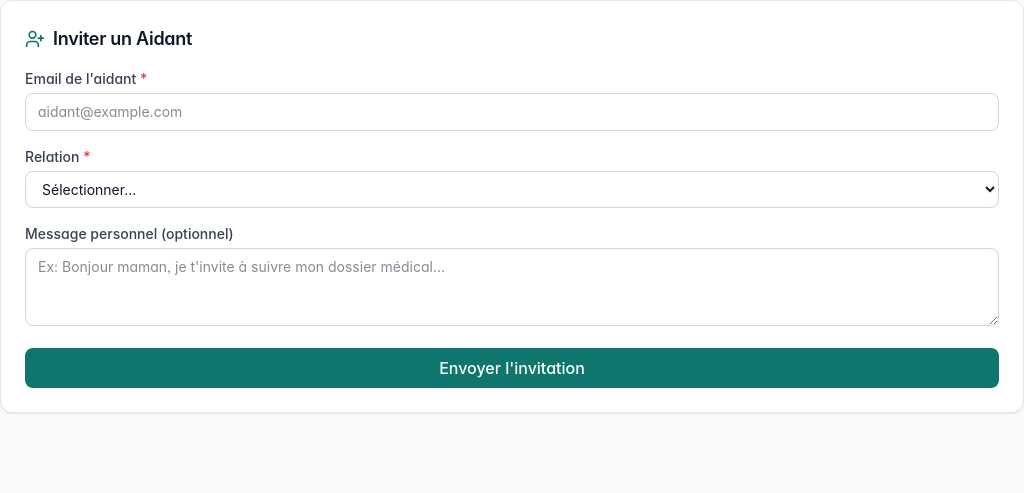
Test: CaregiverInviteForm Component › should show error message on API failure
Type "existing@example.com" into the field with placeholder "aidant@example.com" at (512, 112), box x1=25 y1=93 x2=999 y2=131
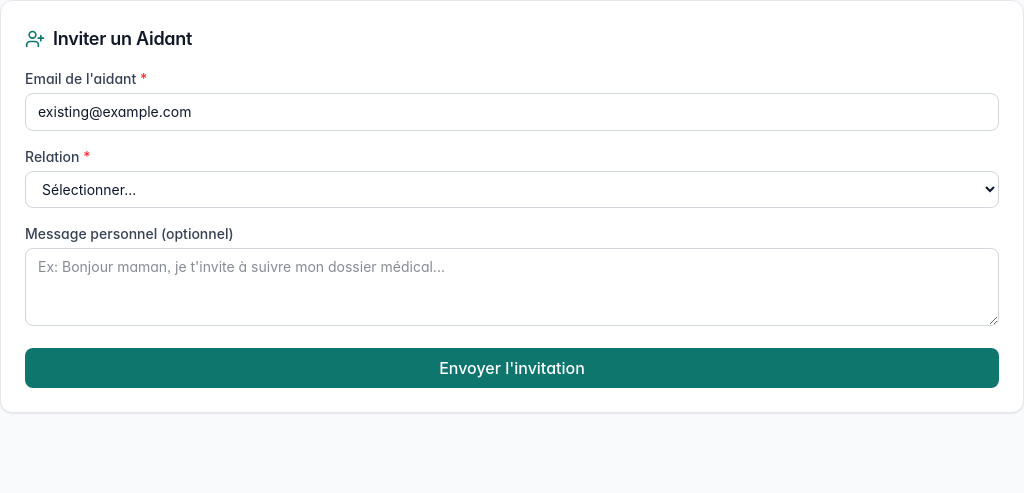
Select "Parent" in the dropdown at (512, 190), box x1=25 y1=171 x2=999 y2=208
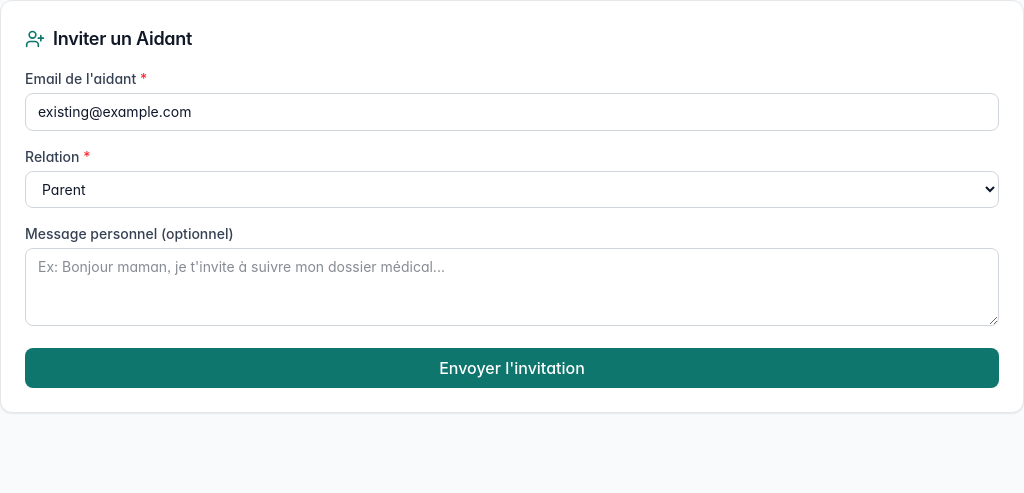
Click the button "Envoyer l'invitation" at (512, 368), box x1=25 y1=348 x2=999 y2=388
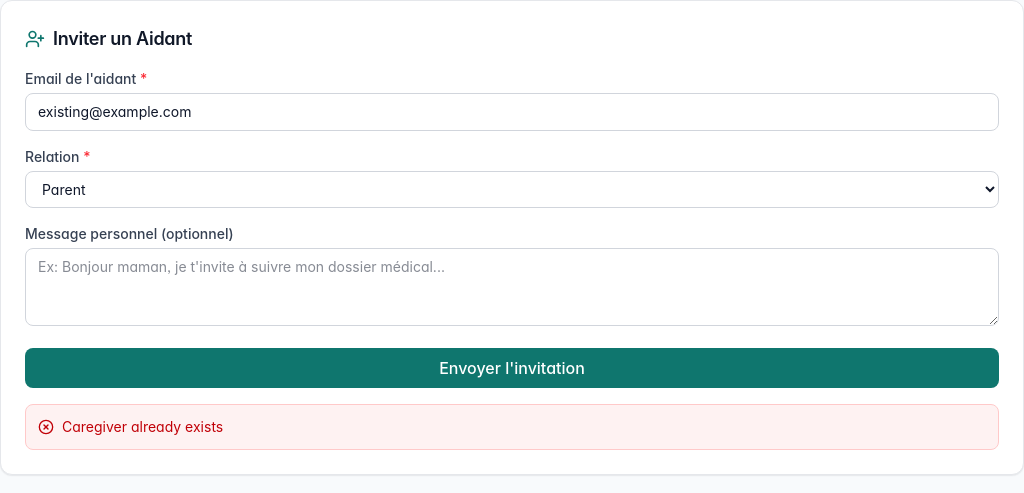
Now the text "Caregiver already exists" is shown, box x1=62 y1=417 x2=223 y2=437
